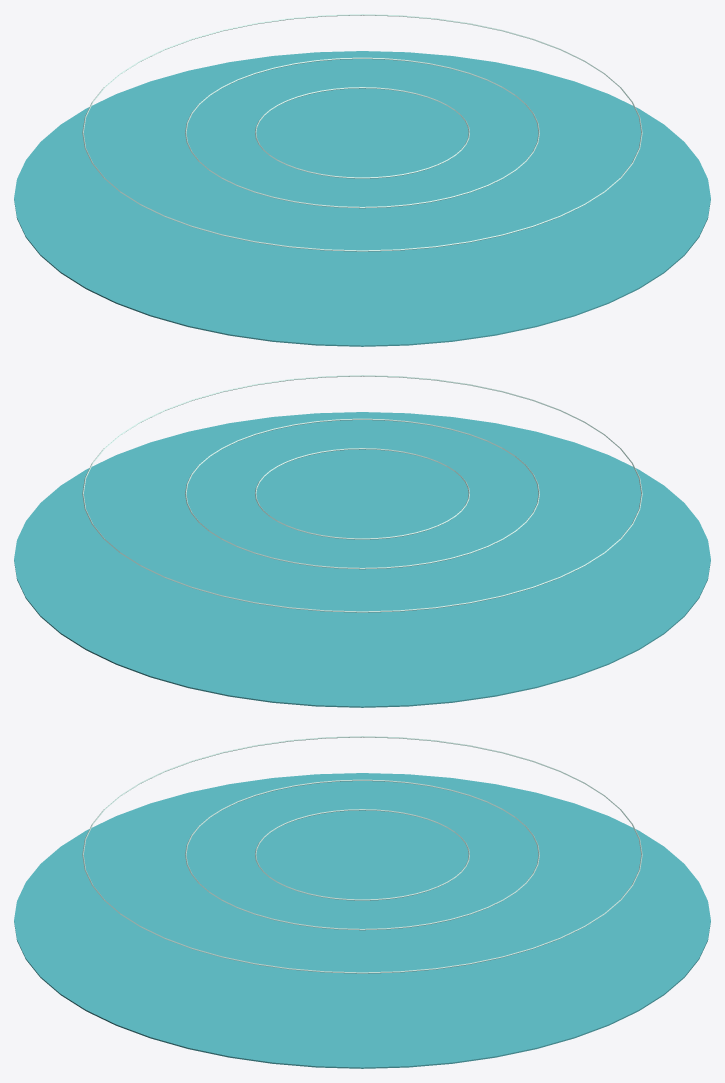
File: superficie_laguna.glb
3 views of the same model, one above another, from view 1: azimuth 30°, elevation 25°; view 2: azimuth 150°, elevation 25°; view 3: azimuth 270°, elevation 25° (orthographic).
Visible parts, largest first — view 1: superficie_laguna; view 2: superficie_laguna; view 3: superficie_laguna.
Part boxes in pixels (<box>): superficie_laguna: <box>14,14,710,346</box>; superficie_laguna: <box>14,375,710,707</box>; superficie_laguna: <box>14,736,710,1068</box>.
Bounding box in the file's own units: 16.96 × 1.81 × 16.96.
